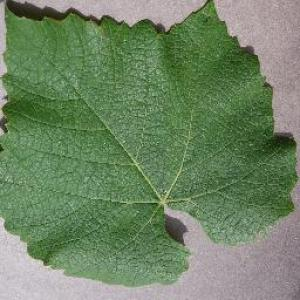Folha: (0, 0, 299, 288)
